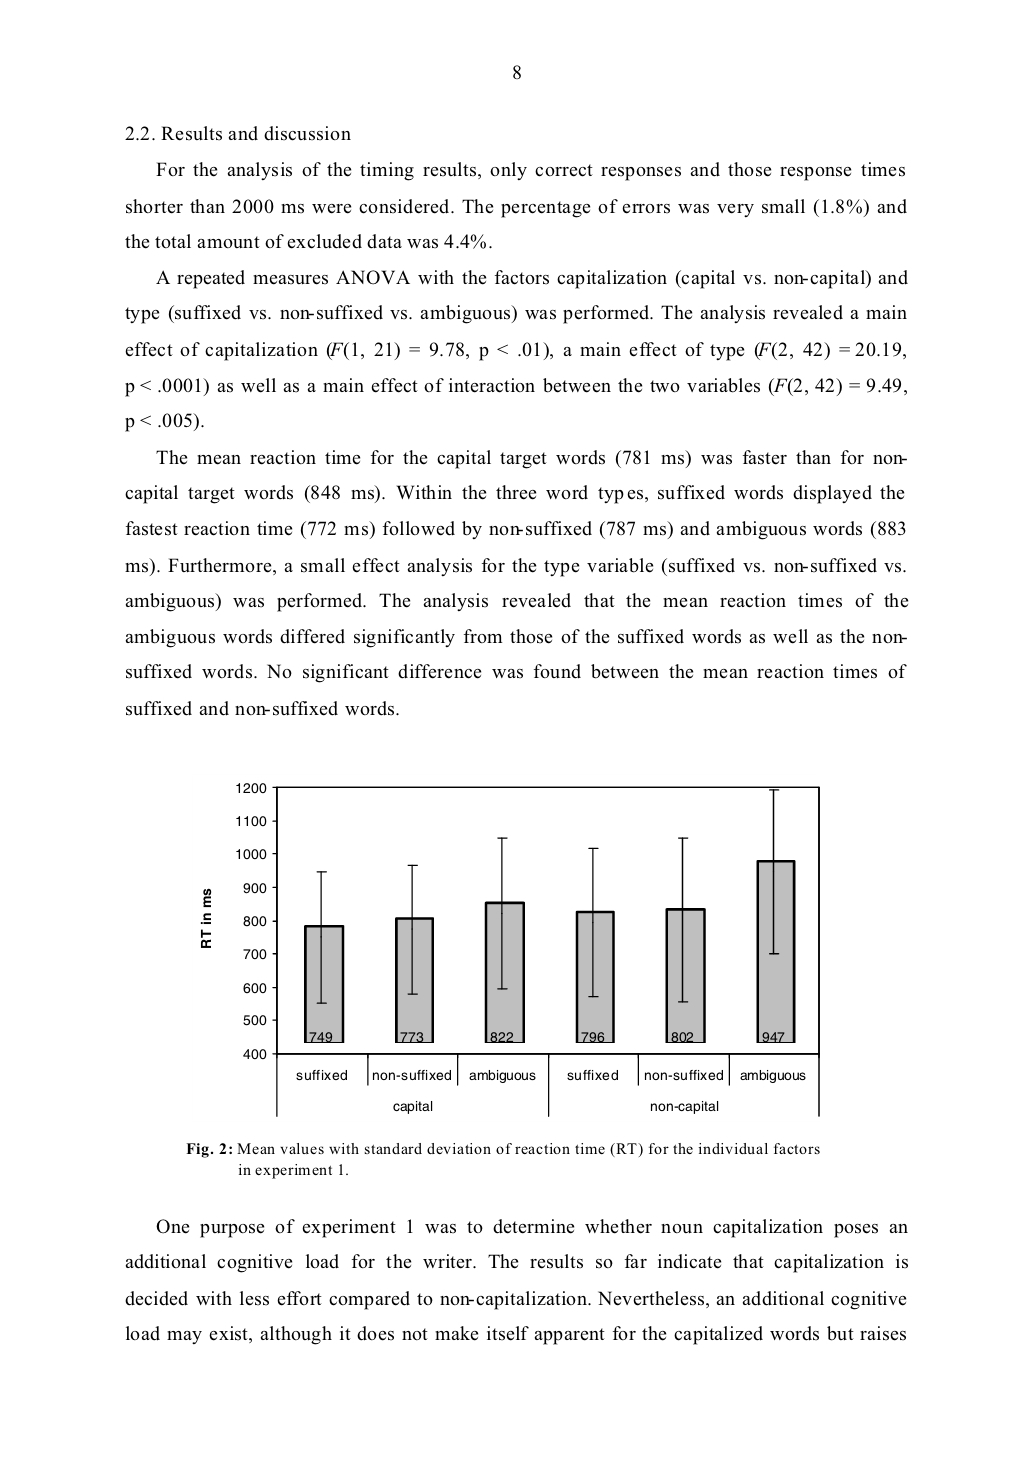figure: (200, 781, 819, 1117)
